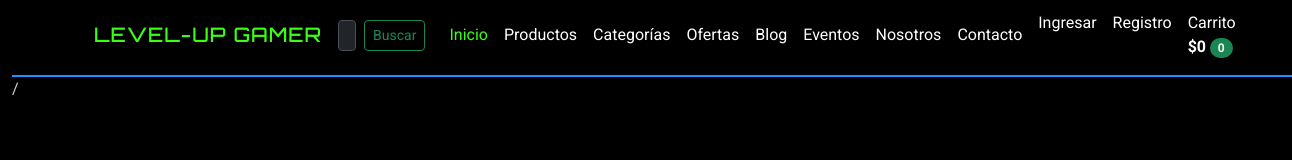
it: AppNavbar - buscador y monto del carrito › buscar sin texto lleva al catálogo completo
The image size is (1292, 160).
Click the button "Buscar": [395, 35] box x1=364 y1=20 x2=426 y2=50
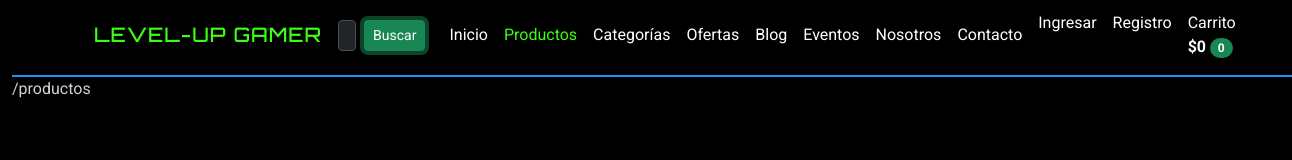
Now the text with test id "ubicacion" reads "/productos", box x1=12 y1=79 x2=91 y2=98
